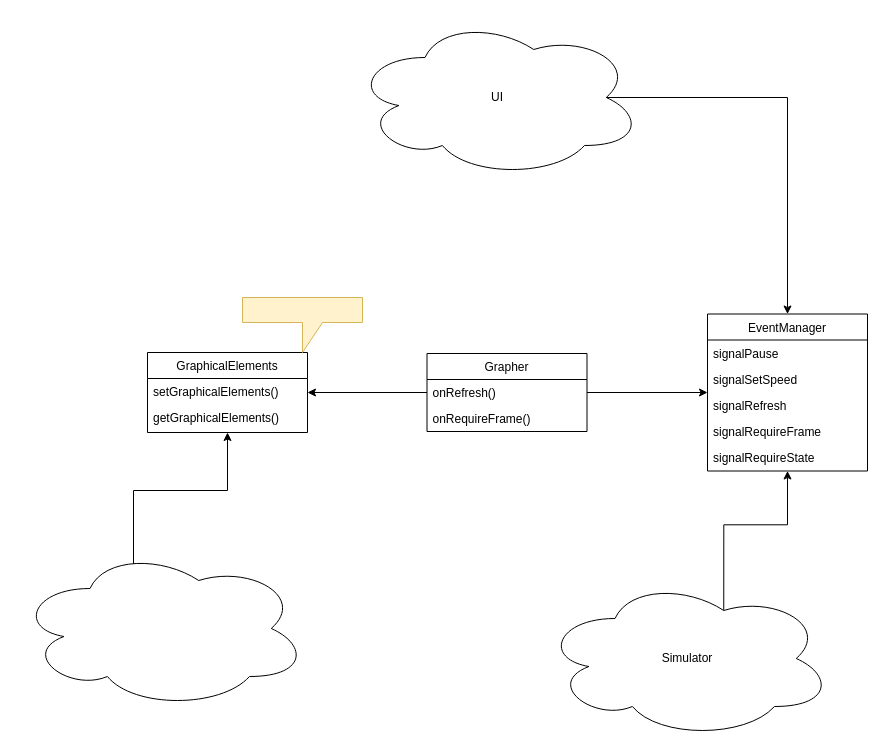
Some shapes in this 885 by 756 pixel diagram are drawn without their labels. The shapes that lost their labels are listed below. From the top down, each one's centre as x and y in pixels, then its label:
At point (302, 324): "Saves all visual data".
At point (162, 628): "Input Reader".
